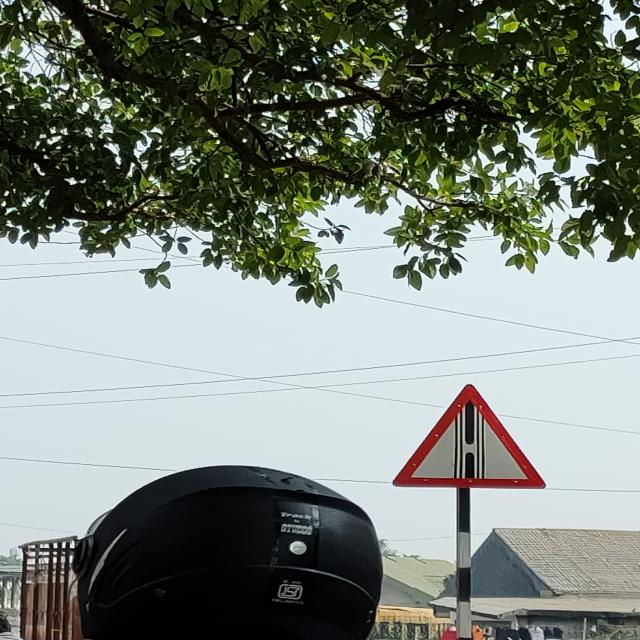ferry: (391, 384, 548, 487)
